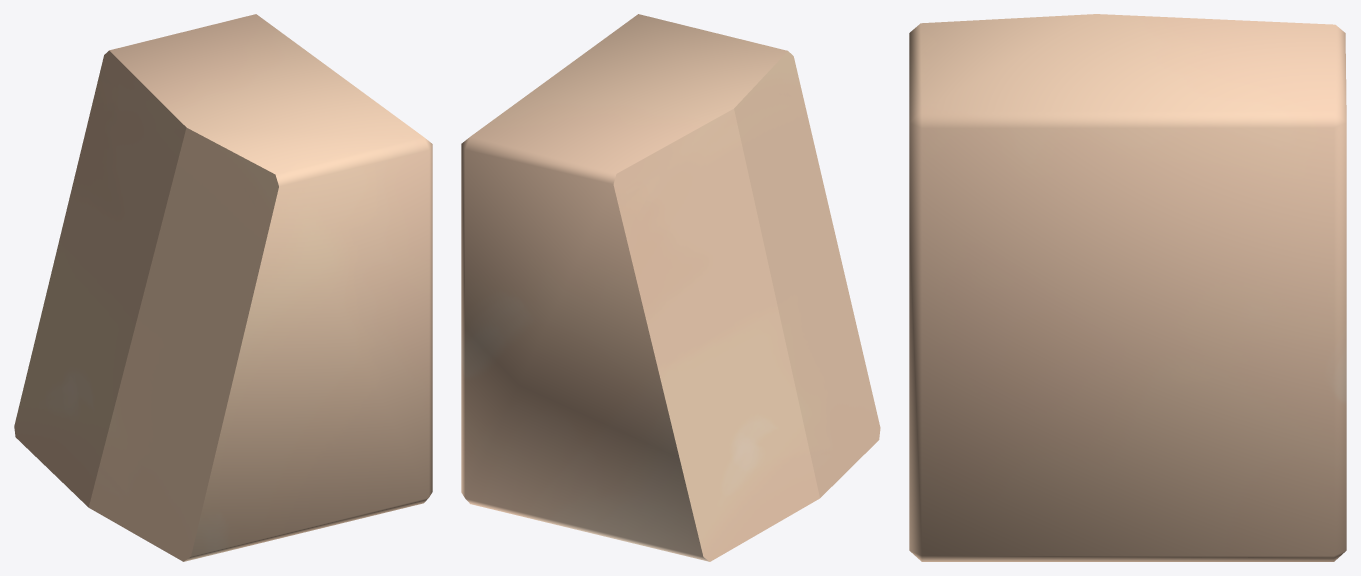
File: Block15.4.fbx
3 renders of one model, left to right at view 1: azimuth 30°, elevation 25°; view 2: azimuth 150°, elevation 25°; view 3: azimuth 270°, elevation 25°, orthographic. The views are drawn at different scales.
Parts seen in each view (by area): view 1: Block15.4; view 2: Block15.4; view 3: Block15.4.
Boxes of the visible parts, <box> form: Block15.4: <box>14,14,432,561</box>; Block15.4: <box>461,14,880,561</box>; Block15.4: <box>909,14,1346,561</box>.
Size of the model in its own units: 0.5653 by 0.7413 by 0.6519.
